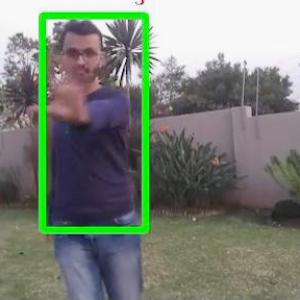follow_hand: (25, 43, 95, 122)
